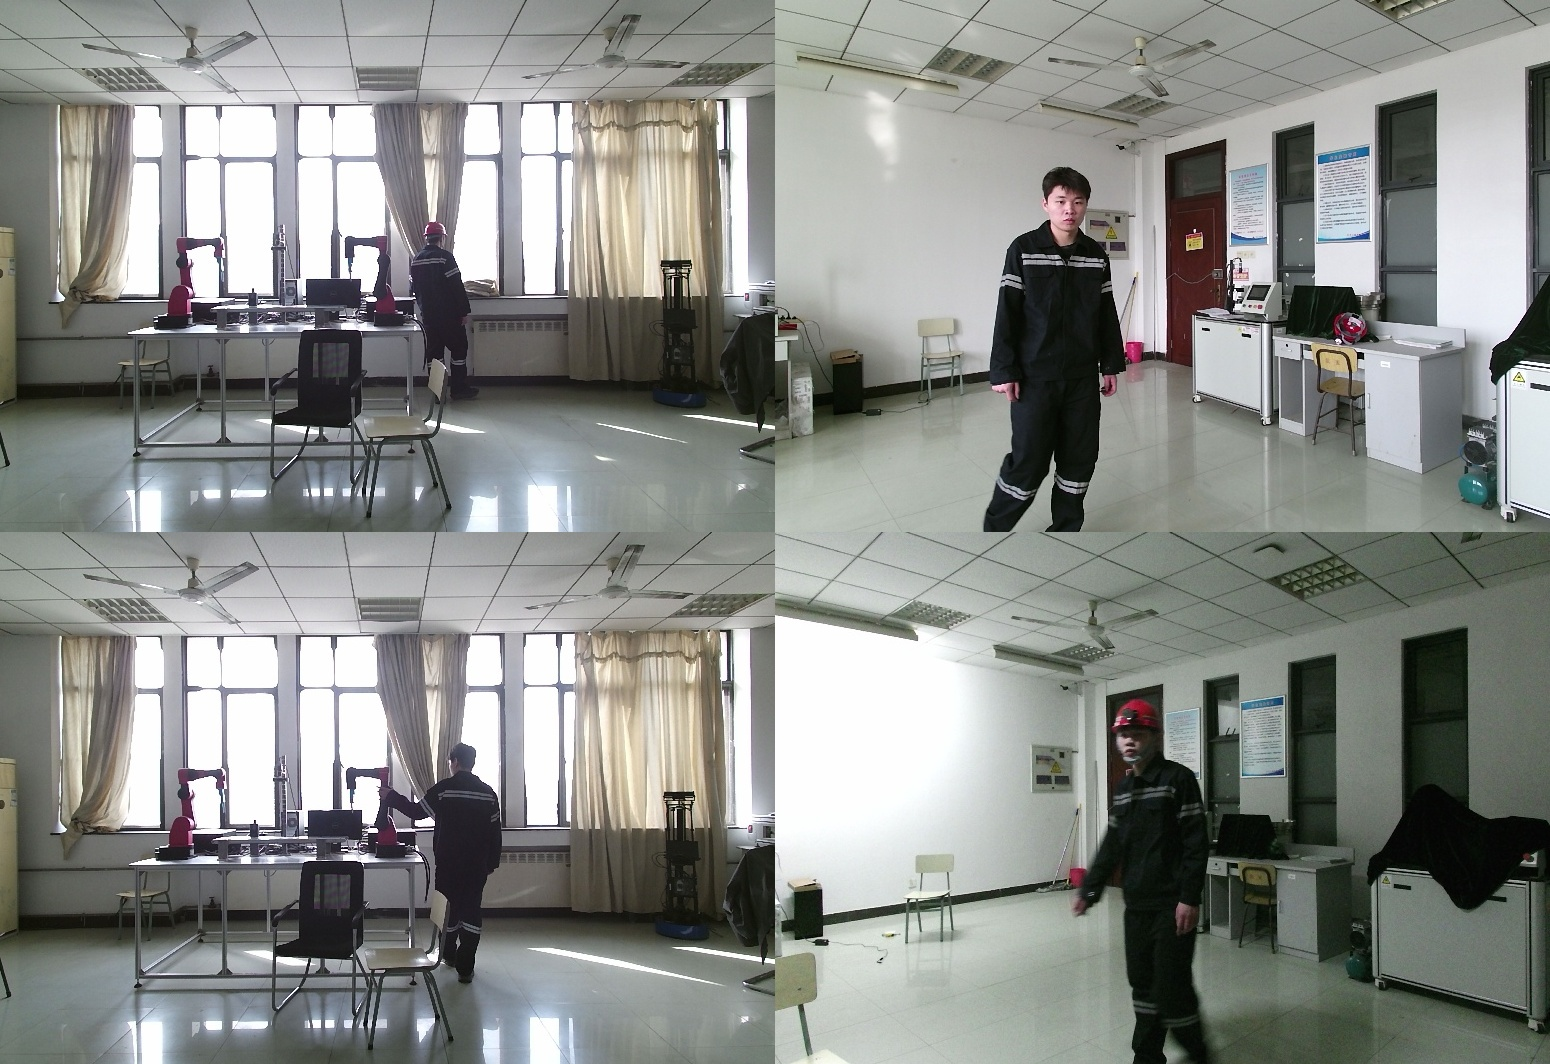person: (1074, 699, 1230, 1064), (972, 167, 1122, 532), (390, 747, 508, 982), (407, 223, 480, 407)
